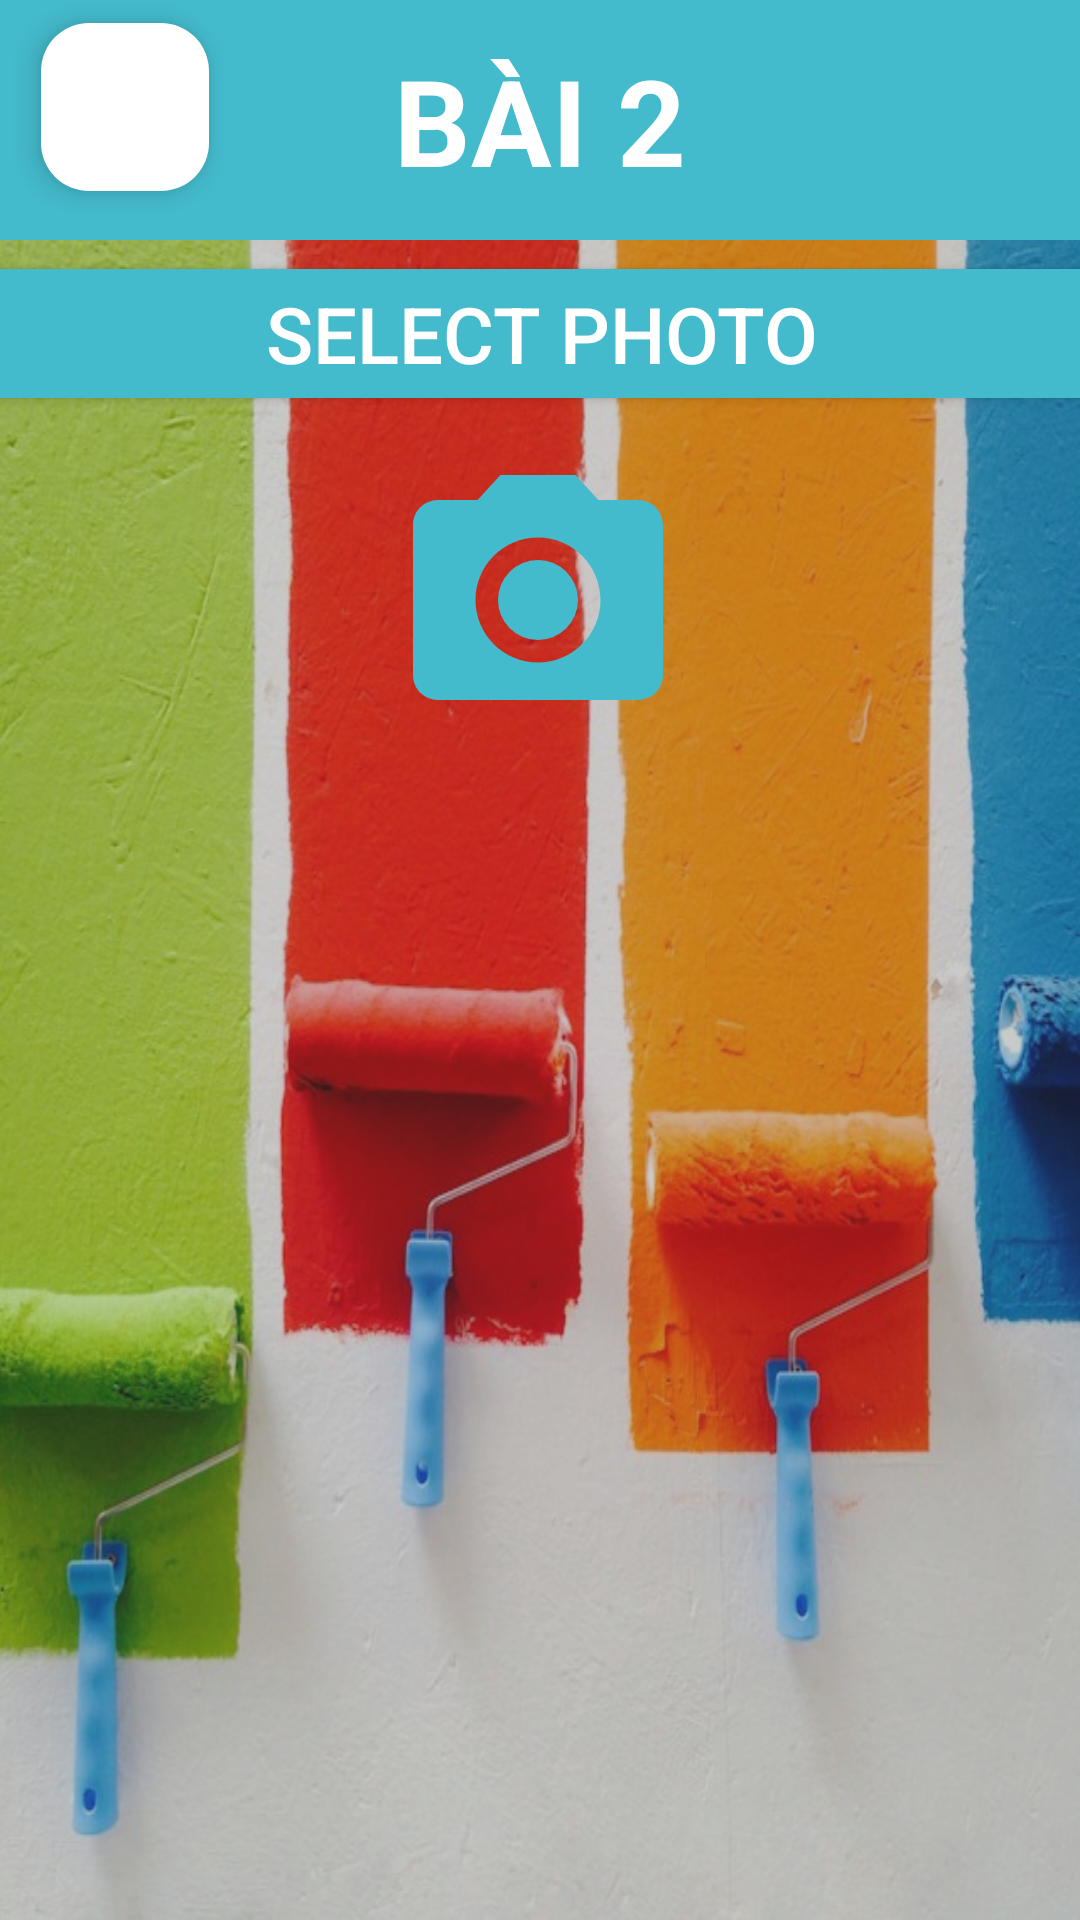

Where to tap for icons on this 1080 x 1920 app screen, as (x,y):
camera: (538,600)
